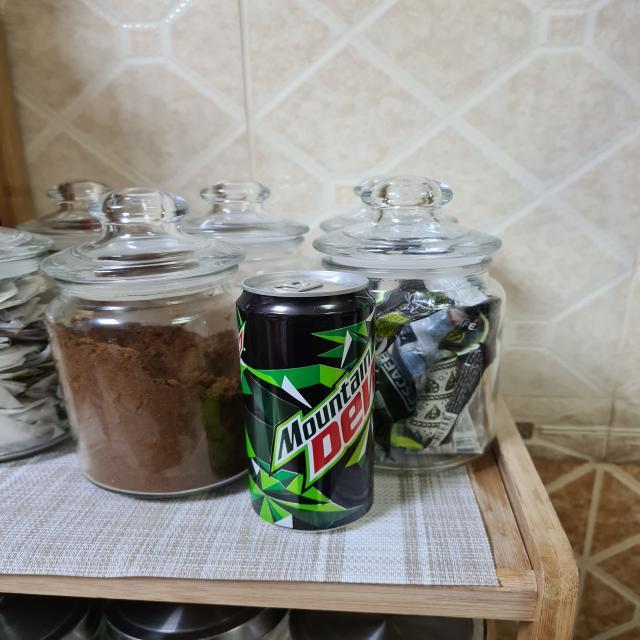can: (235, 267, 380, 531)
